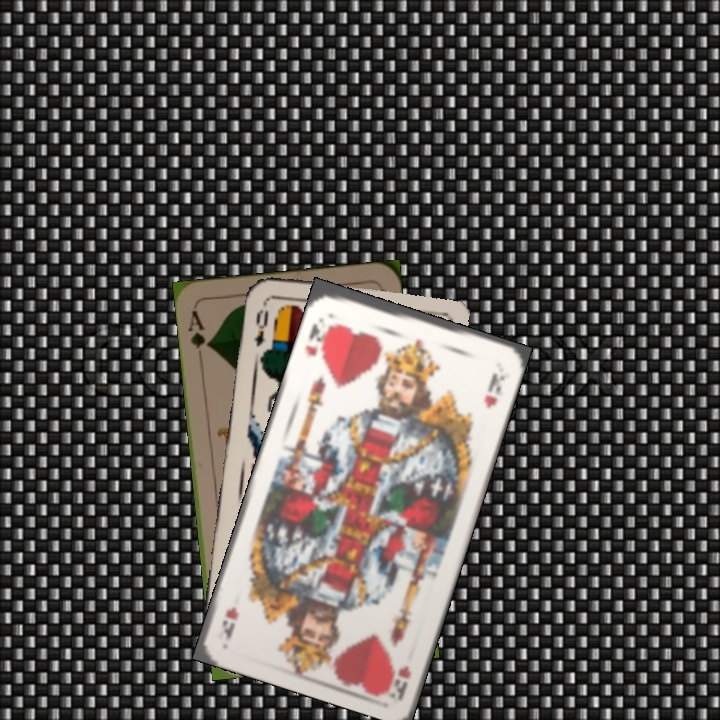EO: (250, 305, 271, 350)
GA: (184, 307, 213, 351)
HK: (301, 313, 335, 362), (384, 661, 413, 699)
